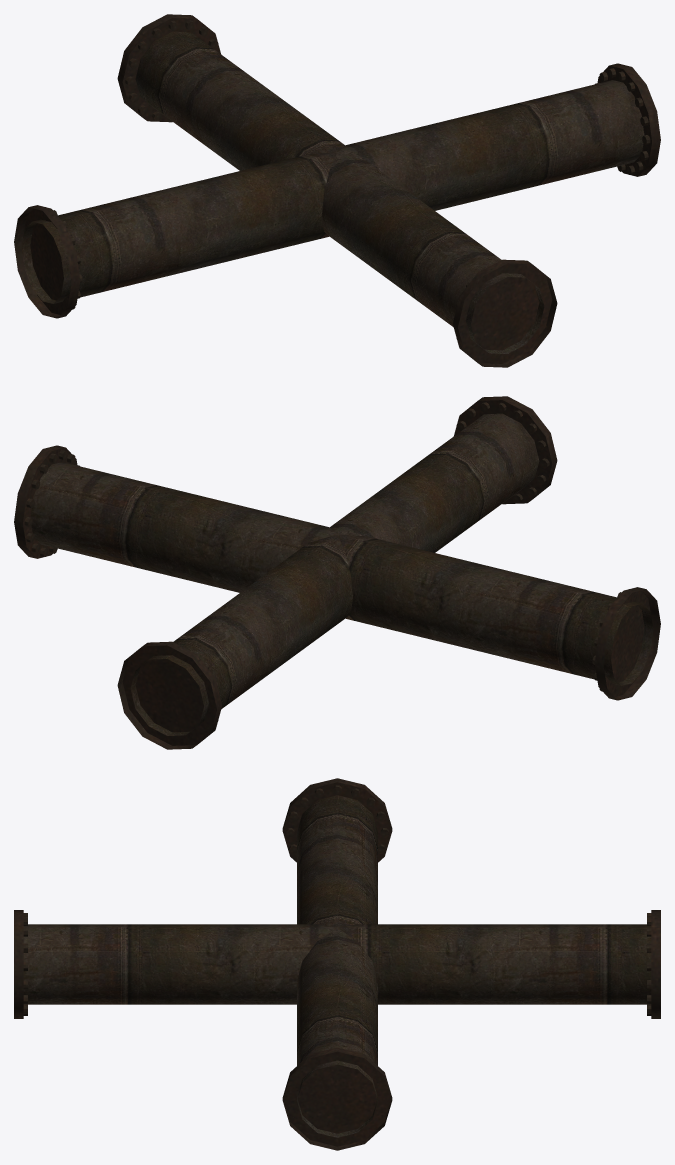
The model's file is pipe_bx_2.obj.
3 renders of one model, top to bottom at view 1: azimuth 30°, elevation 25°; view 2: azimuth 150°, elevation 25°; view 3: azimuth 270°, elevation 25°, orthographic. The views are drawn at different scales.
Visible parts, largest first — view 1: pipe_bx_2; view 2: pipe_bx_2; view 3: pipe_bx_2.
Part boxes in pixels (x1,y1,x2,y2): pipe_bx_2: (14,14,660,367); pipe_bx_2: (14,396,660,749); pipe_bx_2: (14,778,660,1150).
Bounding box in the file's own units: 4 × 0.676 × 4.
